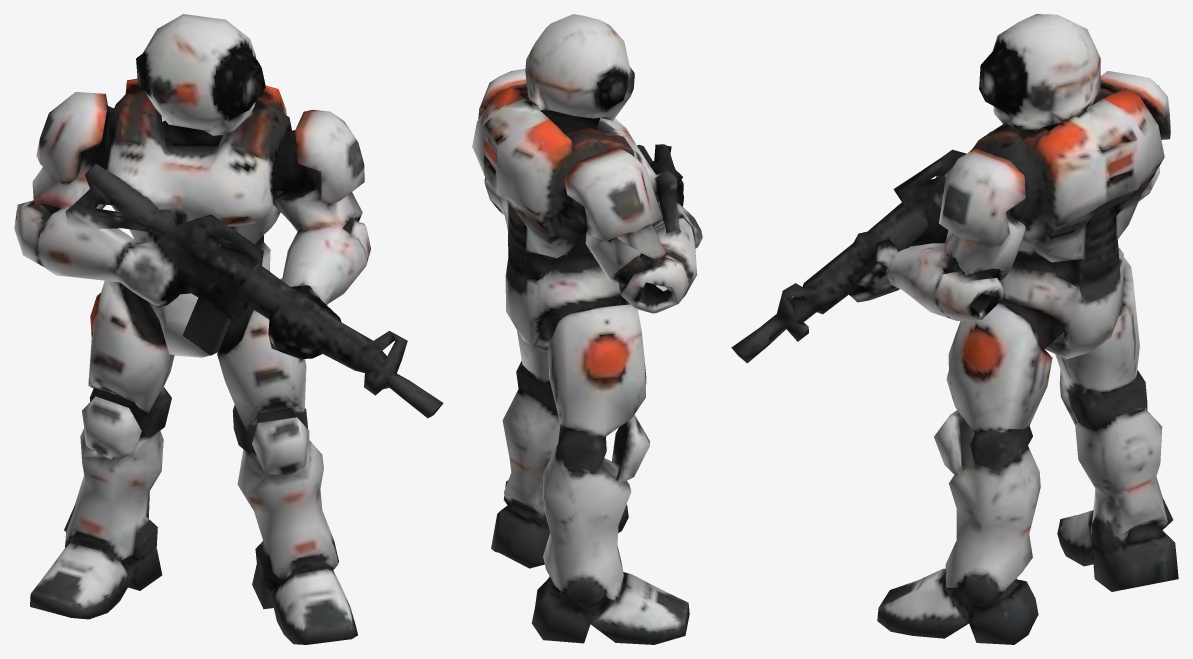
The model's file is detail_1_lo2.glb.
3 views of the same model, side by side, from view 1: azimuth 30°, elevation 25°; view 2: azimuth 150°, elevation 25°; view 3: azimuth 270°, elevation 25° (orthographic). The views are drawn at different scales.
Parts seen in each view (by area): view 1: Mesh_0.001; view 2: Mesh_0.001; view 3: Mesh_0.001.
Boxes of the visible parts, <box> form: Mesh_0.001: <box>14,14,443,644</box>; Mesh_0.001: <box>472,14,702,644</box>; Mesh_0.001: <box>731,14,1178,644</box>.
Size of the model in its own units: 0.4948 by 1.01 by 0.7098.
Materials: 1 (1 with a texture image).
